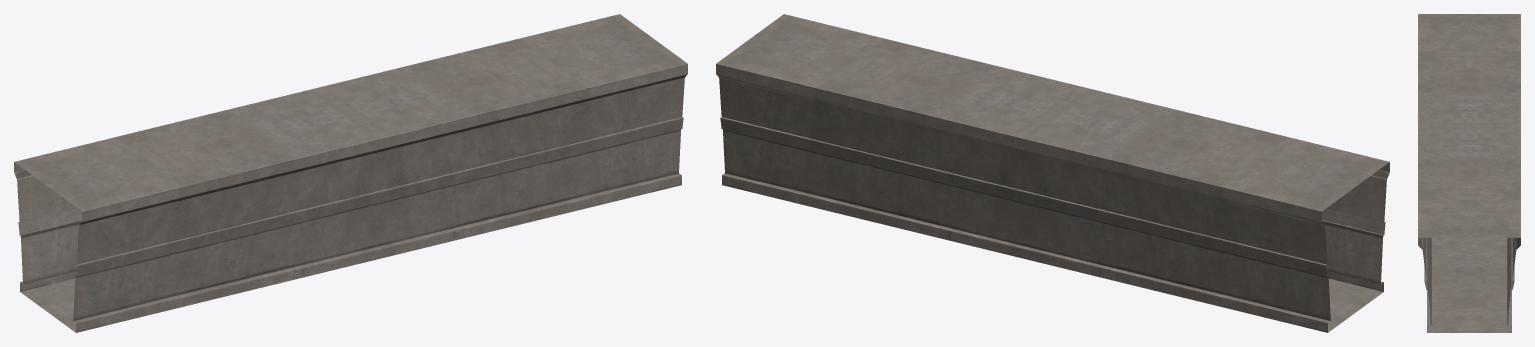
Rendered from sb_obj_outdoor009_AncientTemple_WallTopParts01A.fbx.
3 renders of one model, left to right at view 1: azimuth 30°, elevation 25°; view 2: azimuth 150°, elevation 25°; view 3: azimuth 270°, elevation 25°, orthographic. The views are drawn at different scales.
Parts seen in each view (by area): view 1: sb_obj_outdoor009_AncientTemple_WallTopParts01A; view 2: sb_obj_outdoor009_AncientTemple_WallTopParts01A; view 3: sb_obj_outdoor009_AncientTemple_WallTopParts01A.
Part boxes in pixels (bbox=[...]): sb_obj_outdoor009_AncientTemple_WallTopParts01A: bbox=[14, 14, 687, 332]; sb_obj_outdoor009_AncientTemple_WallTopParts01A: bbox=[716, 14, 1389, 332]; sb_obj_outdoor009_AncientTemple_WallTopParts01A: bbox=[1418, 14, 1520, 332].
Bounding box in the file's own units: 10 × 1.98 × 1.94.
